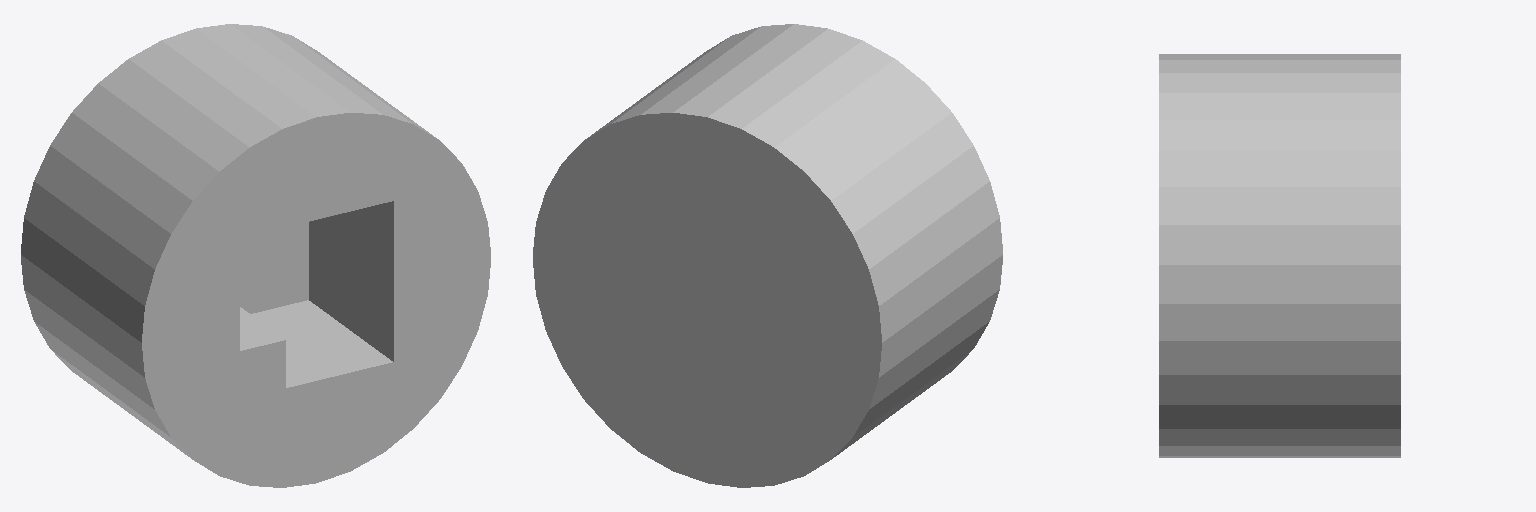
The model's file is cube_leg.obj.
3 views of the same model, side by side, from view 1: azimuth 30°, elevation 25°; view 2: azimuth 150°, elevation 25°; view 3: azimuth 270°, elevation 25° (orthographic).
Visible parts, largest first — view 1: slot_cube_leg_slot_cube_leg.001; view 2: slot_cube_leg_slot_cube_leg.001; view 3: slot_cube_leg_slot_cube_leg.001.
Part boxes in pixels (left/top/right/bottom): slot_cube_leg_slot_cube_leg.001: left=21, top=24, right=490, bottom=487; slot_cube_leg_slot_cube_leg.001: left=533, top=24, right=1002, bottom=487; slot_cube_leg_slot_cube_leg.001: left=1159, top=54, right=1400, bottom=457.
Size of the model in its own units: 0.05 by 0.05 by 0.03.